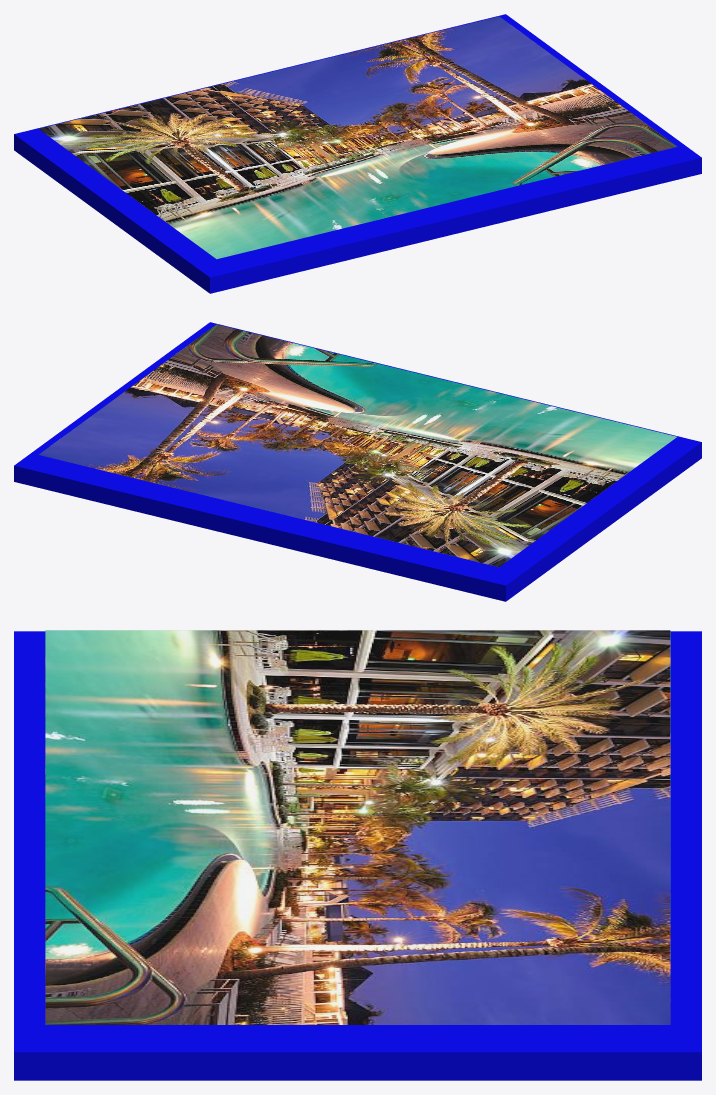
The picture shows the model from 3 angles, top to bottom: view 1: azimuth 30°, elevation 25°; view 2: azimuth 150°, elevation 25°; view 3: azimuth 270°, elevation 25°; orthographic projection. The views are drawn at different scales.
Visible parts, largest first — view 1: PhotoPlane, PhotoBorder; view 2: PhotoPlane, PhotoBorder; view 3: PhotoPlane, PhotoBorder.
Boxes of the visible parts, box(x1,y1,x2,y2) form: PhotoPlane: box(38, 16, 677, 259); PhotoBorder: box(14, 14, 701, 293); PhotoPlane: box(38, 324, 677, 567); PhotoBorder: box(14, 322, 701, 601); PhotoPlane: box(45, 630, 670, 1024); PhotoBorder: box(14, 631, 701, 1080).
Size of the model in its own units: 15.93 by 0.75 by 11.
Materials: 2 (1 with a texture image).
